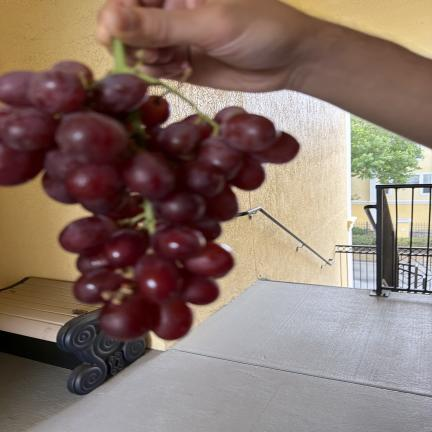grape_cluster: (0, 40, 299, 340)
